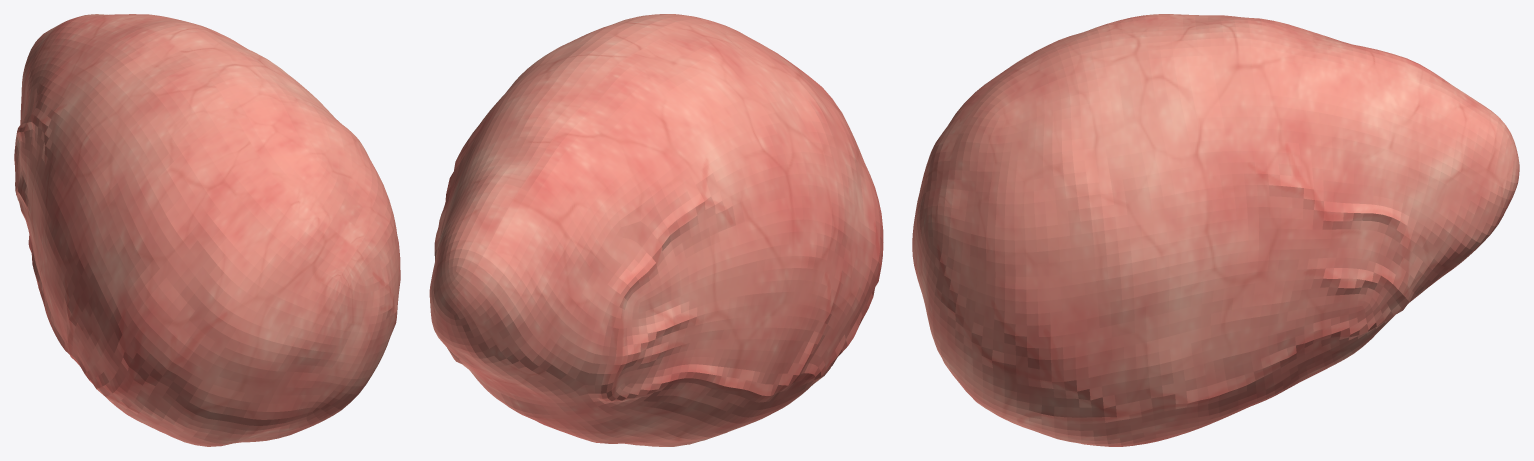
Rendered from Bladder.glb.
3 views of the same model, side by side, from view 1: azimuth 30°, elevation 25°; view 2: azimuth 150°, elevation 25°; view 3: azimuth 270°, elevation 25° (orthographic). The views are drawn at different scales.
Visible parts, largest first — view 1: BladderDynameshLow:ZBrushPolyMesh3D; view 2: BladderDynameshLow:ZBrushPolyMesh3D; view 3: BladderDynameshLow:ZBrushPolyMesh3D.
Boxes of the visible parts, box(x1,y1,x2,y2) form: BladderDynameshLow:ZBrushPolyMesh3D: box(14, 14, 400, 446); BladderDynameshLow:ZBrushPolyMesh3D: box(429, 14, 883, 446); BladderDynameshLow:ZBrushPolyMesh3D: box(912, 14, 1519, 446).
Bounding box in the file's own units: 22.78 × 26.23 × 36.33.
1 material, 1 textured.
